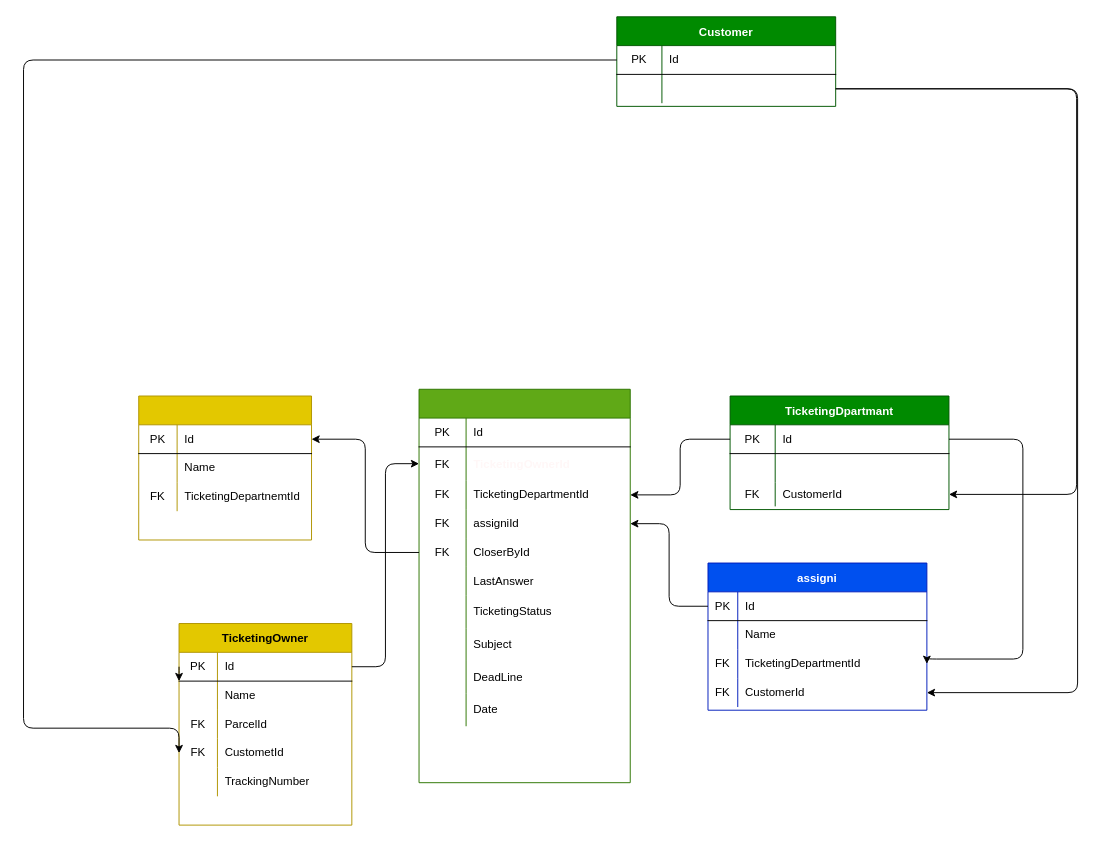
Image size: 1102x842. Some labels were removed from this diagram. Here are the shapes that lost their labels. From the top down, the box of each, then its label:
(138, 395, 312, 540): CloserBy
(418, 388, 630, 783): TicketingDetails
